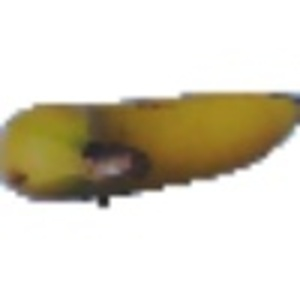banana: (2, 91, 291, 202)
